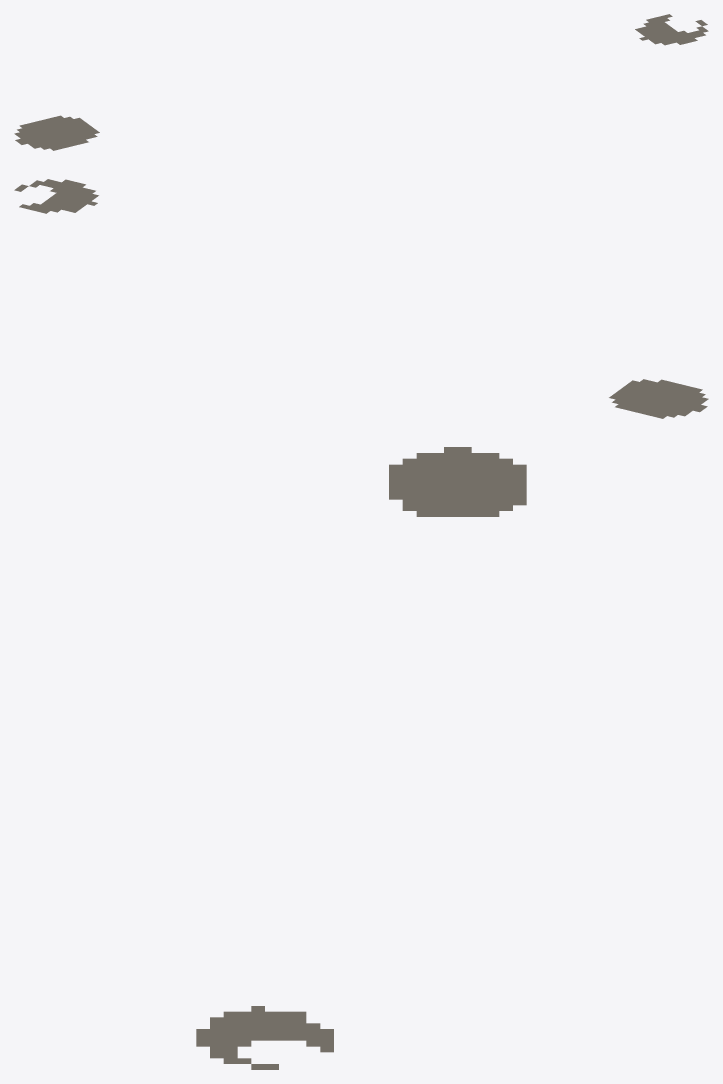
Rendered from Isl-atoll1-RocksArea.fbx.
3 renders of one model, top to bottom at view 1: azimuth 30°, elevation 25°; view 2: azimuth 150°, elevation 25°; view 3: azimuth 270°, elevation 25°, orthographic. The views are drawn at different scales.
Parts seen in each view (by area): view 1: Isl-atoll1-RocksArea; view 2: Isl-atoll1-RocksArea; view 3: Isl-atoll1-RocksArea.
Boxes of the visible parts, x1,y1,x2,y2 form: Isl-atoll1-RocksArea: (14,14,708,150); Isl-atoll1-RocksArea: (14,179,708,418); Isl-atoll1-RocksArea: (196,447,526,1069).
Bounding box in the file's own units: 107 × 0 × 24.
